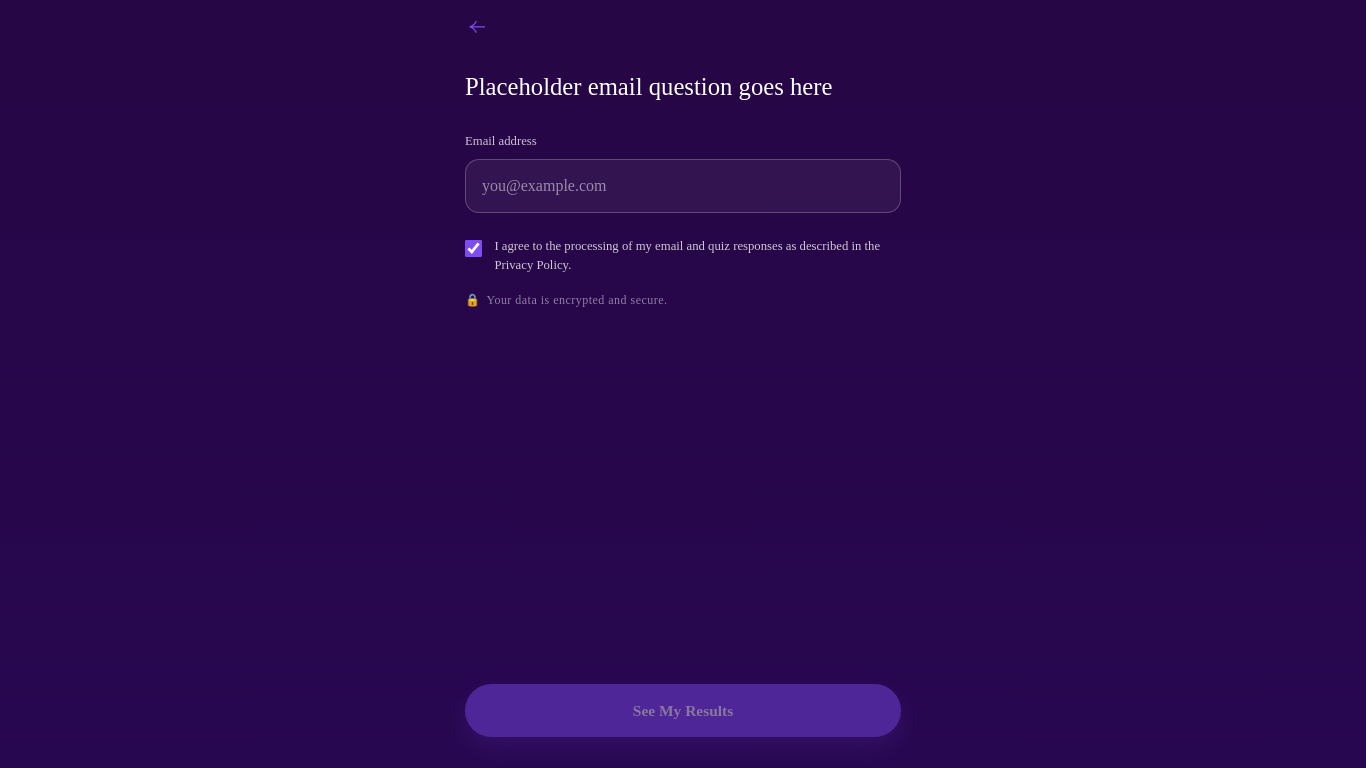
Email Capture Consent UI › submit button is disabled when email is valid but consent is unchecked
Type "test@example.com" into the field labelled "Email address" at x=683, y=186, box x1=465 y1=159 x2=901 y2=213
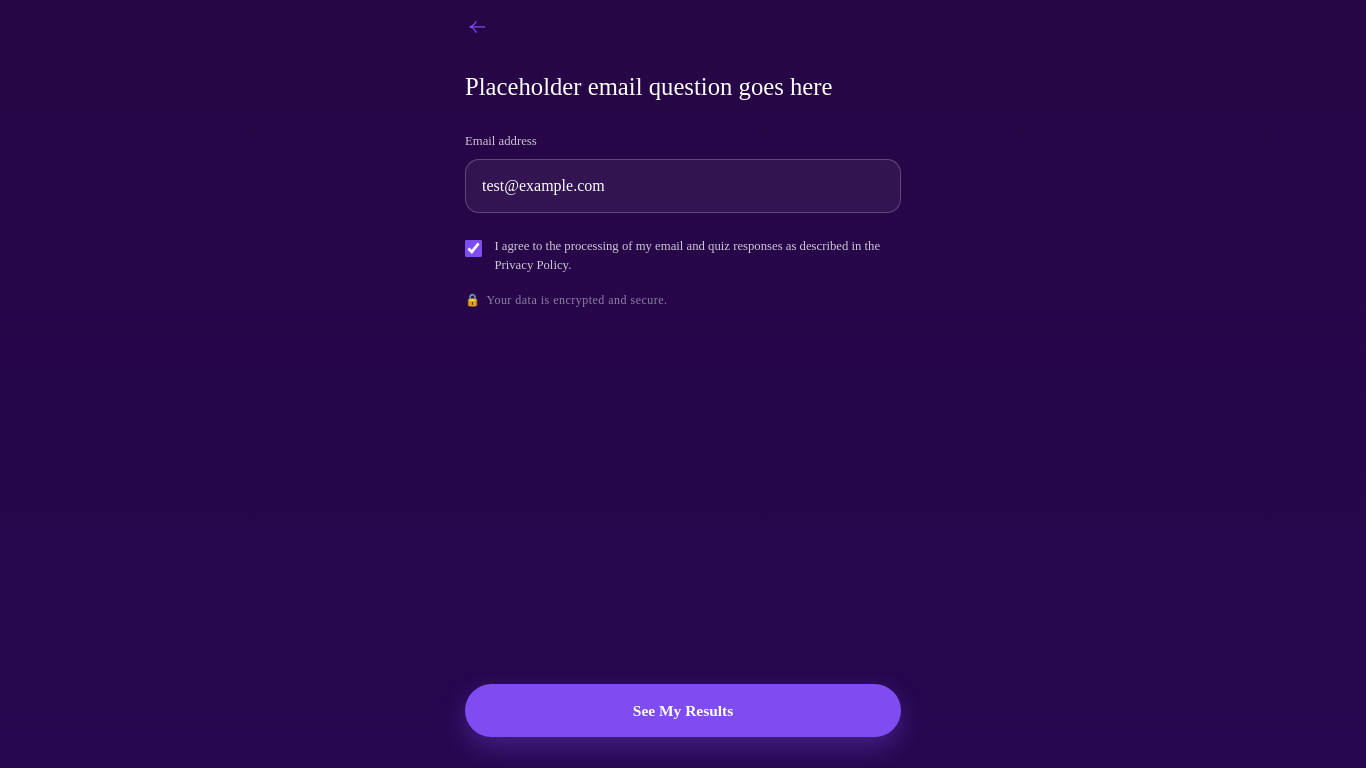
Click the checkbox labelled "processing of my email" at x=474, y=248, box x1=465 y1=240 x2=482 y2=257
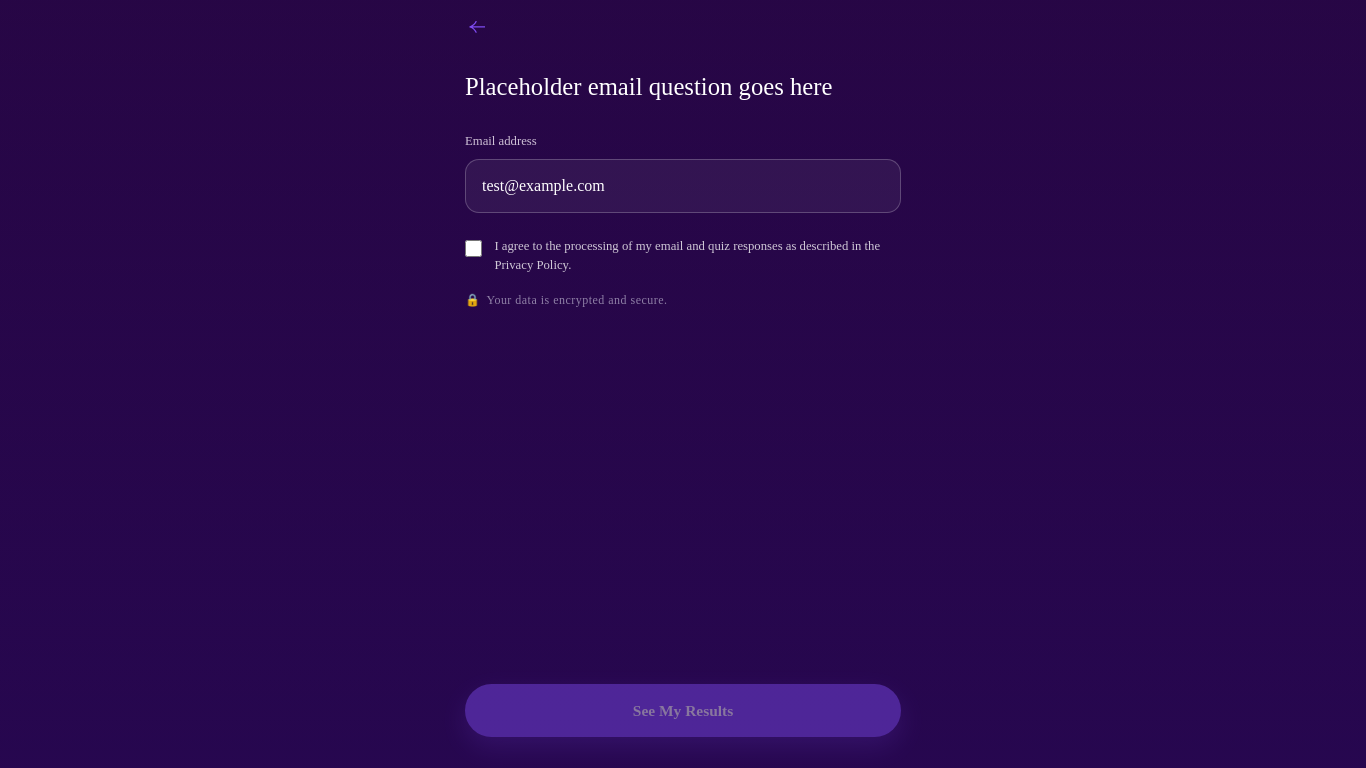
expect the button "See My Results" is disabled: met, box x1=465 y1=684 x2=901 y2=737
